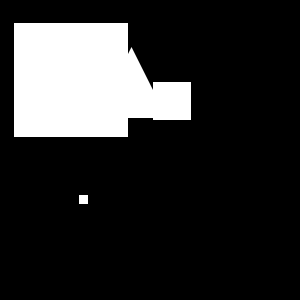circle: (14, 23, 128, 137), (153, 82, 191, 120), (79, 195, 88, 204)
triangle: (96, 47, 167, 118)
